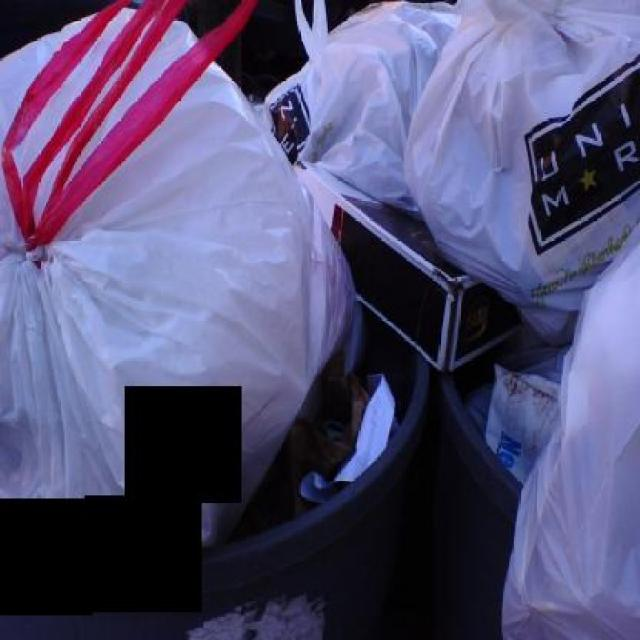plastic bag: (0, 0, 362, 597), (402, 0, 638, 348), (496, 222, 638, 638), (252, 0, 456, 217)
